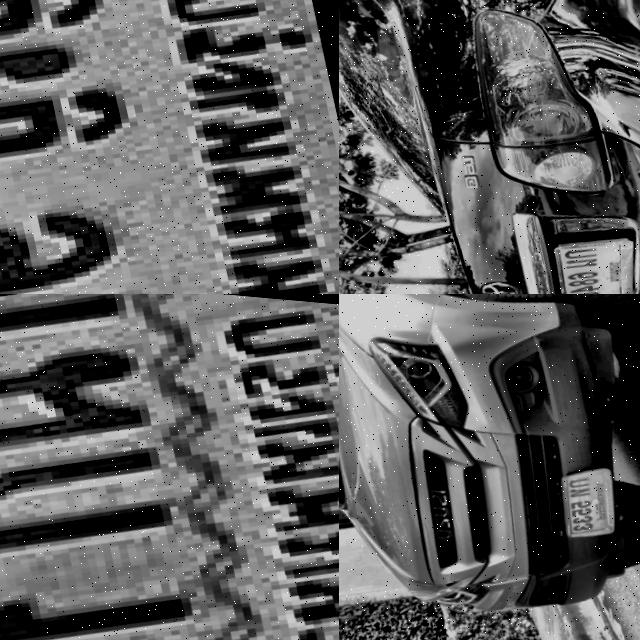license-plate: (0, 294, 339, 640), (0, 0, 339, 294), (544, 210, 640, 294), (551, 449, 628, 536)
